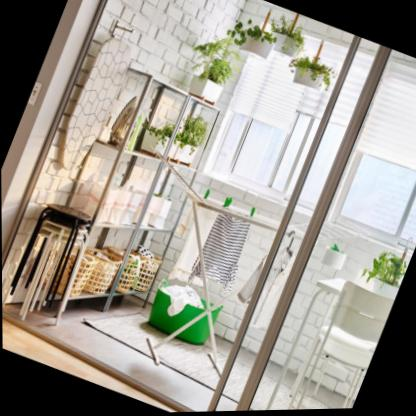Chair: (269, 273, 395, 411)
